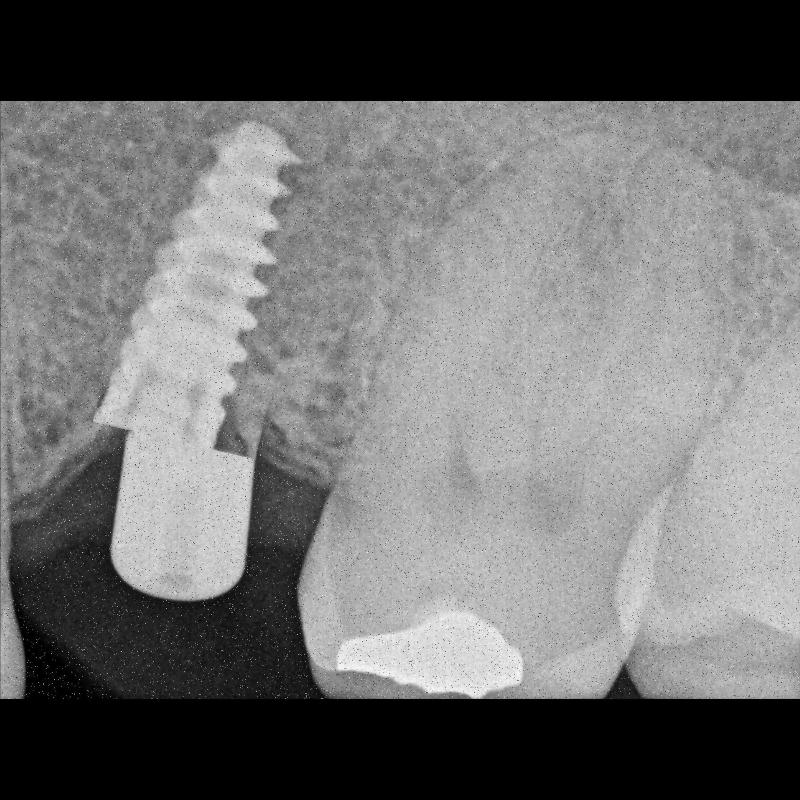ADIN: (111, 106, 313, 452)
